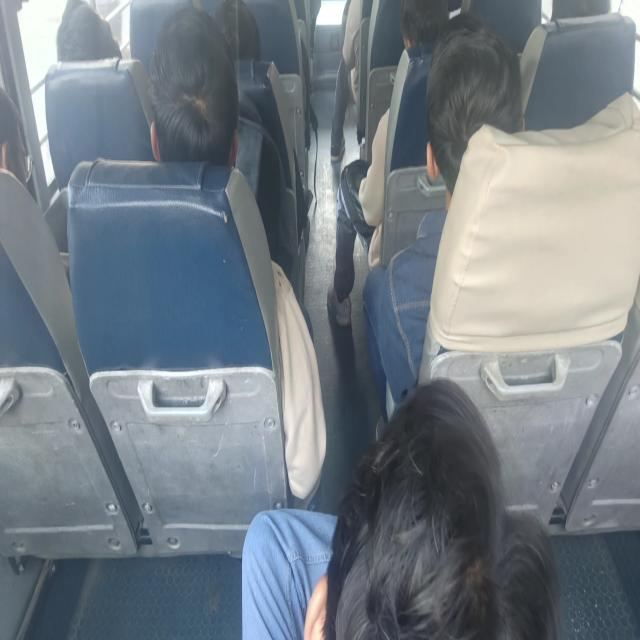person: (147, 5, 327, 503), (241, 376, 560, 638), (362, 22, 524, 422), (326, 0, 448, 327), (147, 6, 240, 166), (329, 0, 362, 162), (56, 0, 122, 62), (0, 86, 32, 187), (214, 0, 262, 61)
